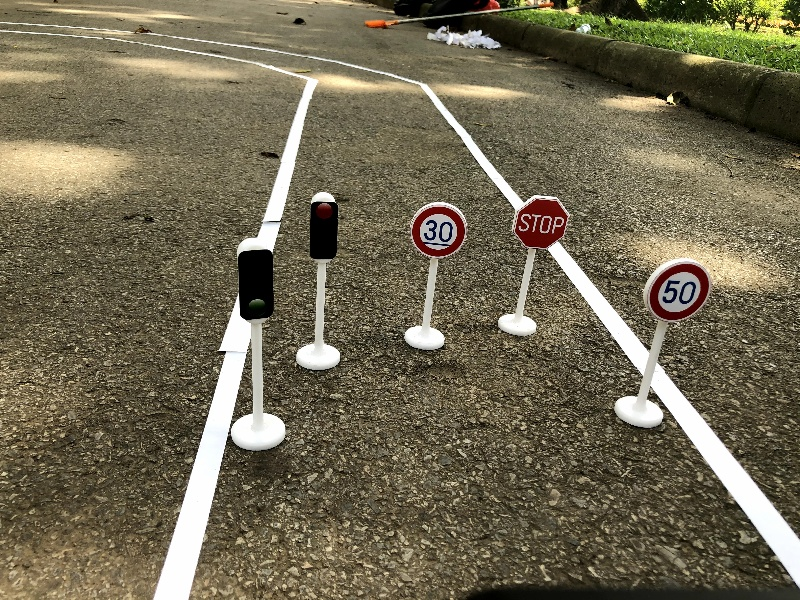Green: (228, 237, 289, 456)
Limit 30: (403, 200, 469, 350)
Limit 50: (612, 257, 714, 429)
Red: (294, 191, 342, 372)
Stop: (495, 193, 571, 337)
